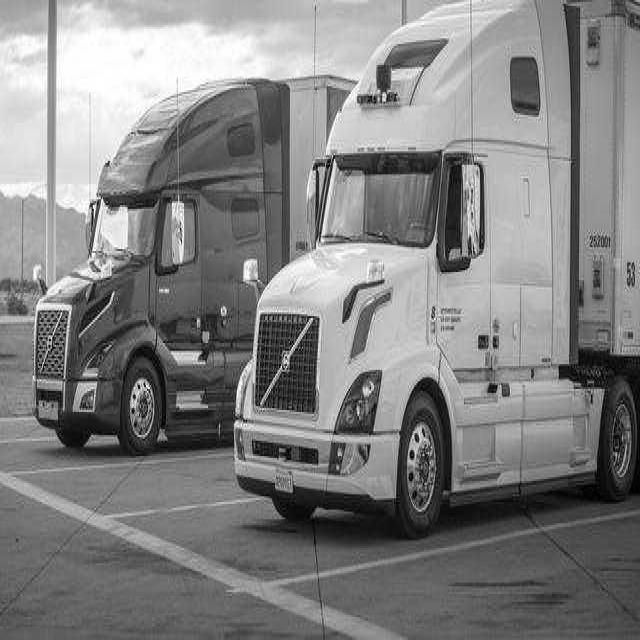Truck: (235, 0, 640, 537), (31, 79, 311, 452)
